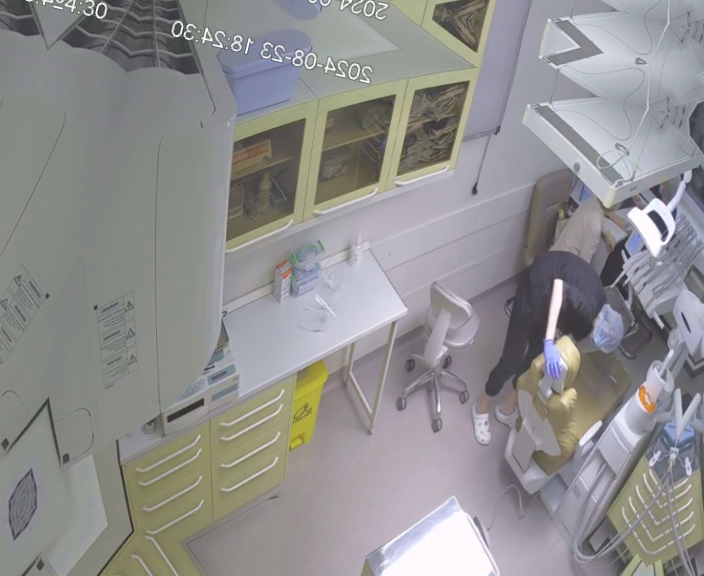Empty: (495, 330, 649, 512)
